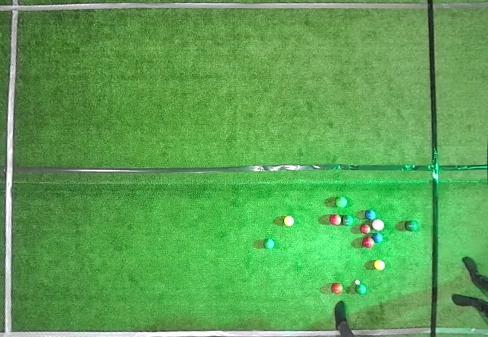blue: (372, 233, 383, 243), (366, 210, 376, 220)
green: (336, 197, 347, 208), (405, 221, 417, 231), (343, 215, 353, 226), (356, 285, 366, 295), (265, 239, 274, 249)
red: (331, 283, 343, 295), (329, 214, 341, 226), (372, 219, 384, 231), (362, 237, 374, 248), (360, 224, 370, 234)
vline: (427, 0, 487, 336), (0, 0, 20, 336)
white: (355, 280, 360, 285)
yellow: (374, 260, 385, 271), (284, 216, 294, 226)
